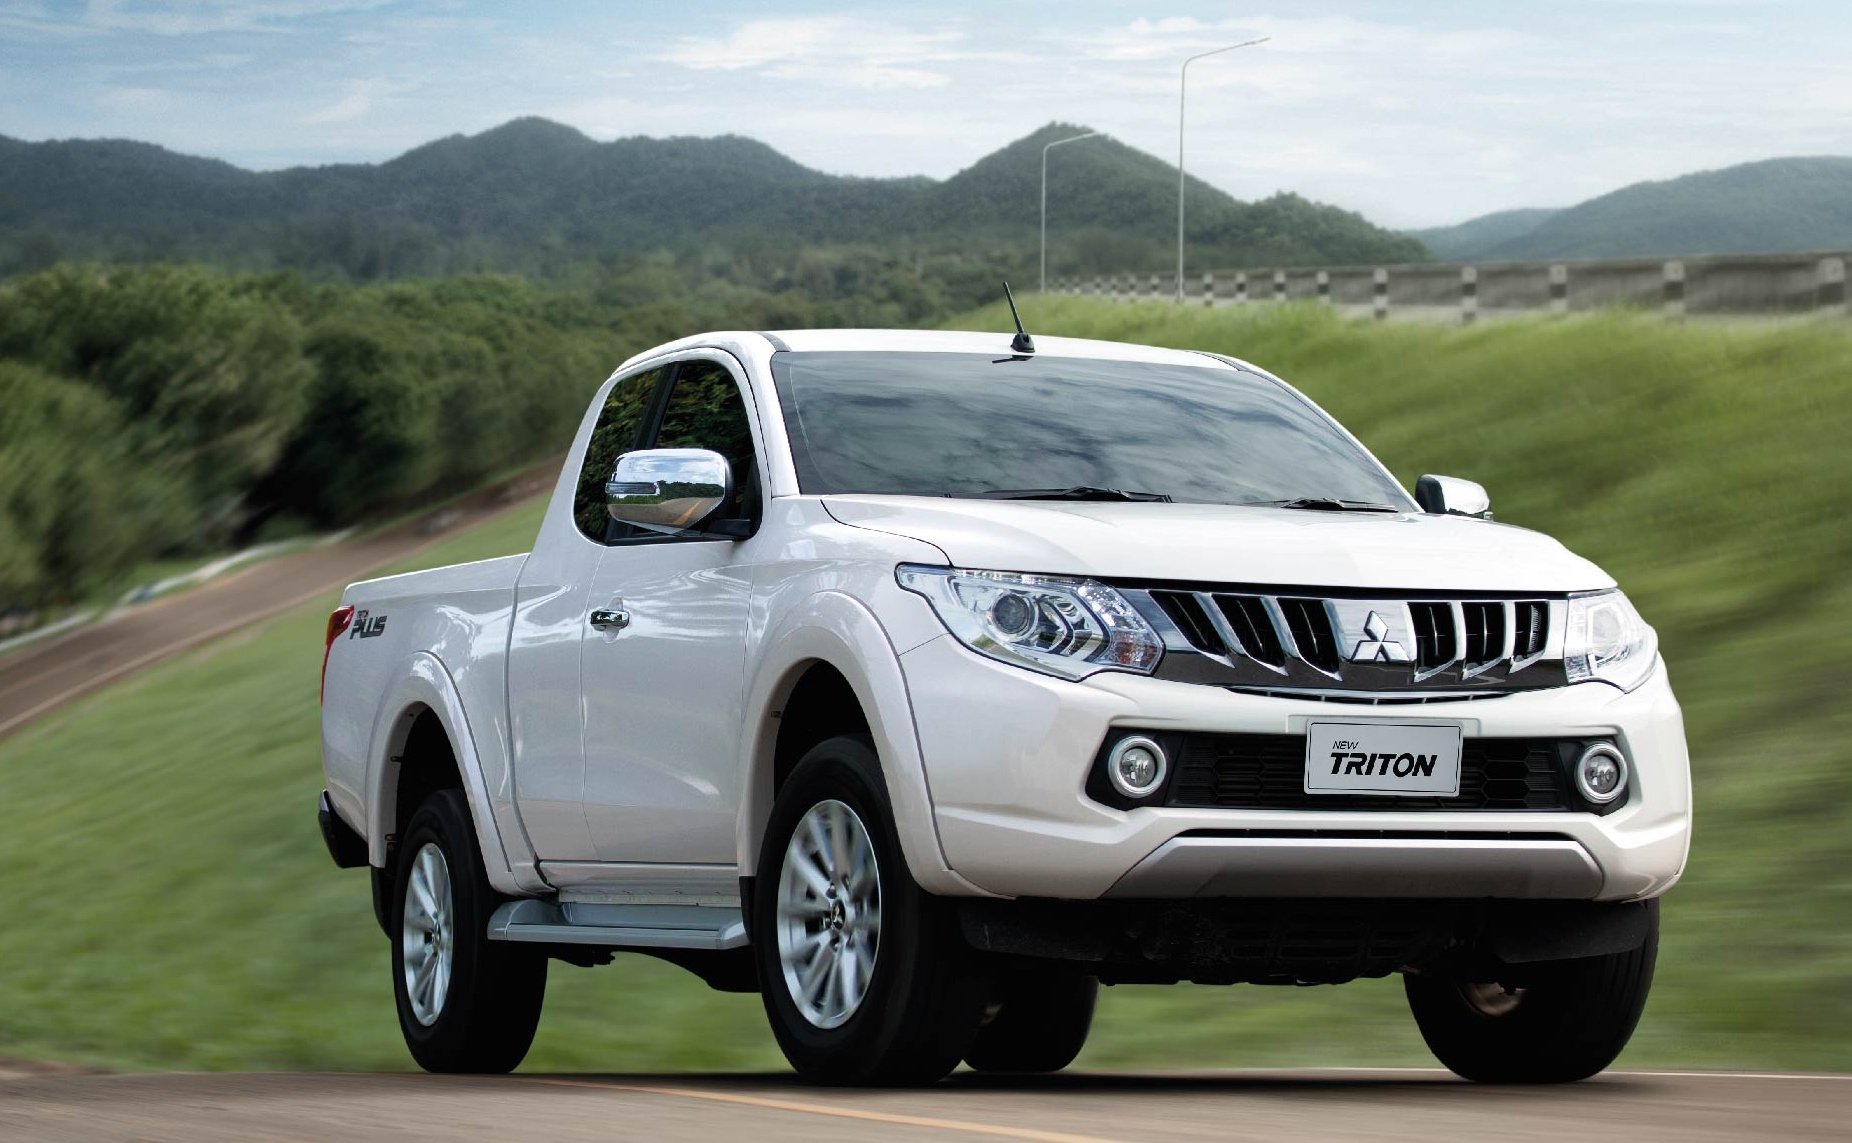pickup: (308, 310, 1703, 1097)
